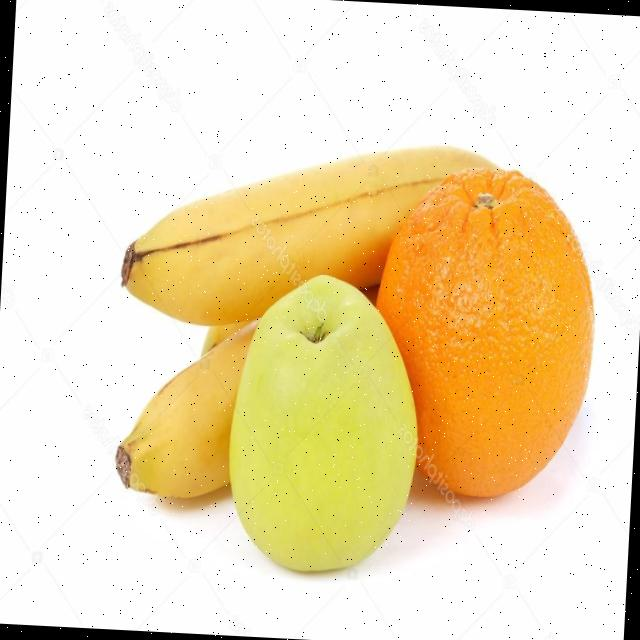Apel: (222, 268, 428, 578)
Jeruk: (366, 160, 604, 505)
Pisang: (118, 127, 504, 343), (114, 310, 262, 502)
